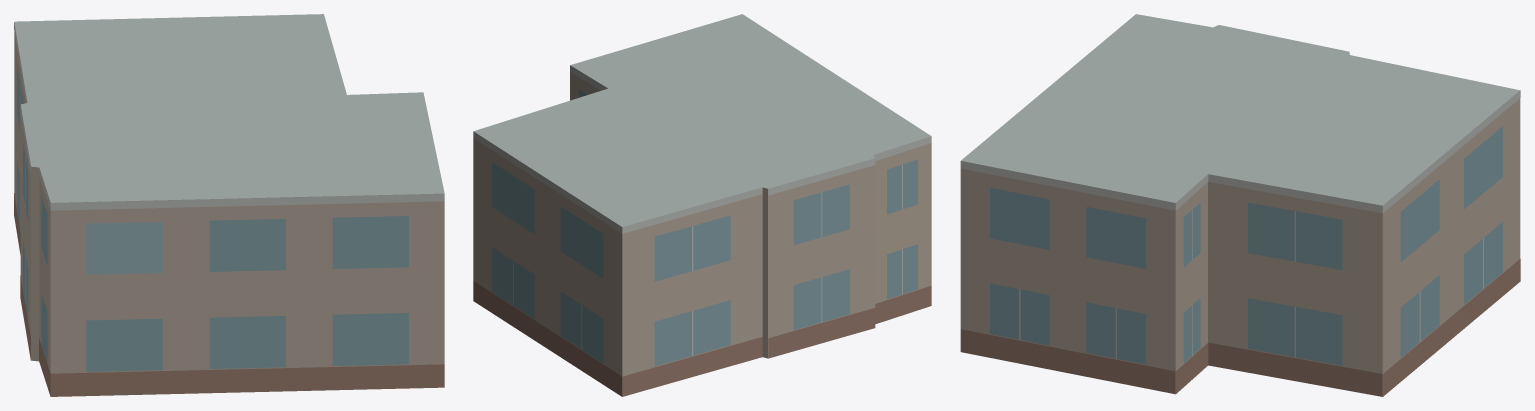
The model's file is survey-upis-32950448.glb.
3 renders of one model, left to right at view 1: azimuth 30°, elevation 25°; view 2: azimuth 150°, elevation 25°; view 3: azimuth 270°, elevation 25°, orthographic. The views are drawn at different scales.
Visible parts, largest first — view 1: survey-upis-32950448.tmp; view 2: survey-upis-32950448.tmp; view 3: survey-upis-32950448.tmp.
Part boxes in pixels (bbox=[...]): survey-upis-32950448.tmp: bbox=[14, 14, 444, 396]; survey-upis-32950448.tmp: bbox=[473, 14, 931, 396]; survey-upis-32950448.tmp: bbox=[960, 14, 1520, 396].
Size of the model in its own units: 13.12 by 6.1 by 16.19.
